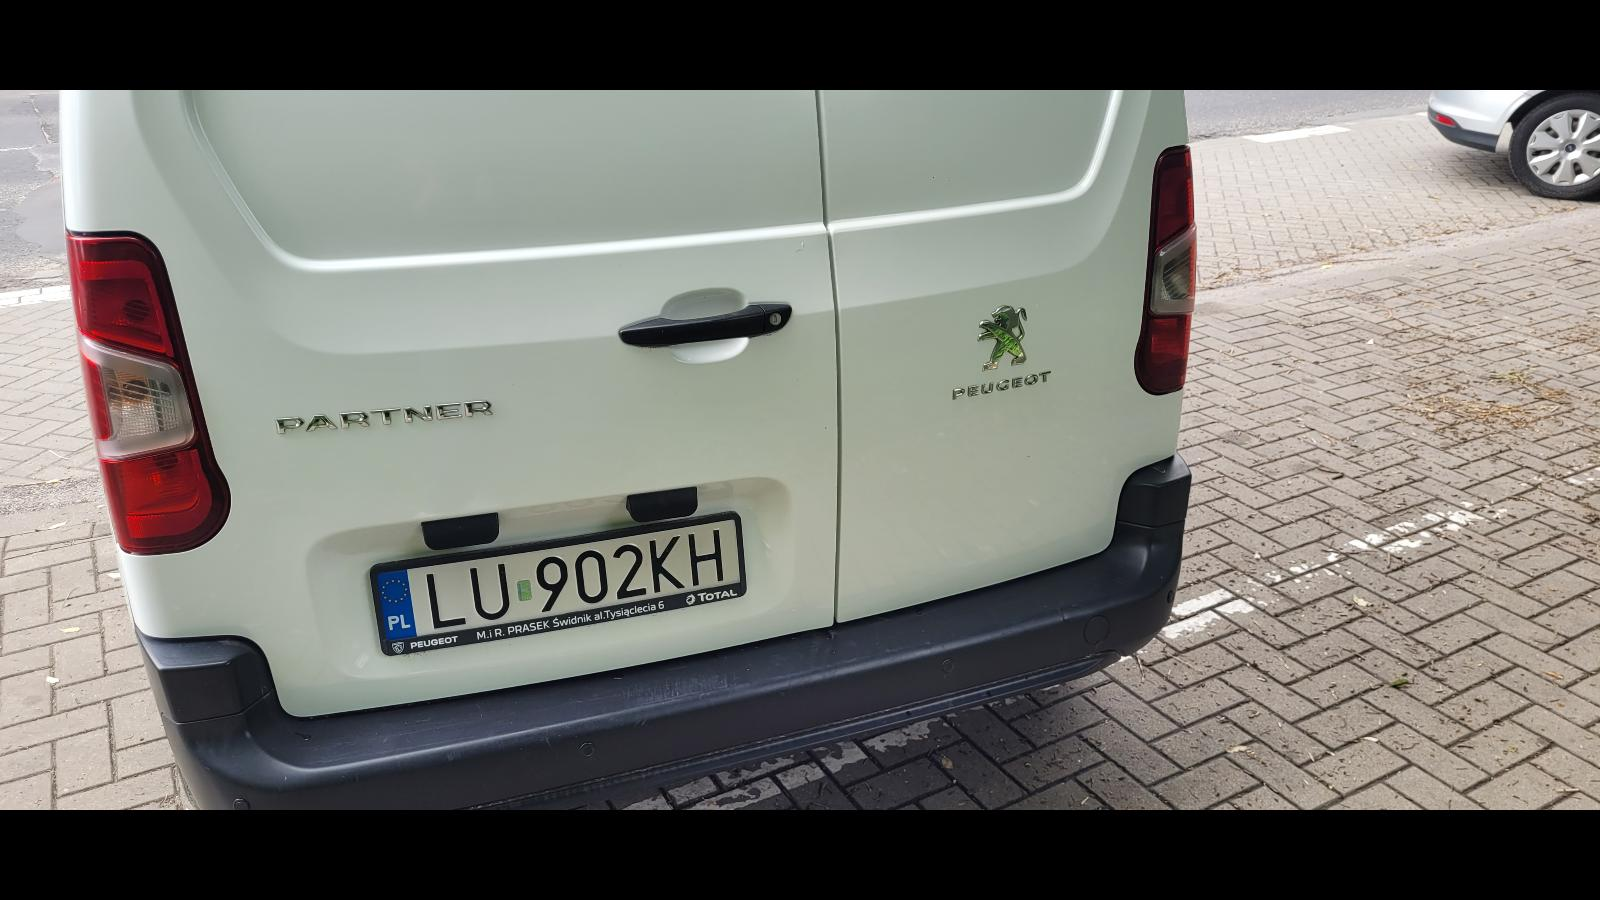plates: (370, 514, 748, 656)
